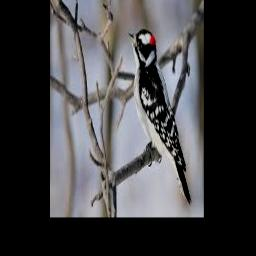Woodpecker: (127, 29, 192, 205)
